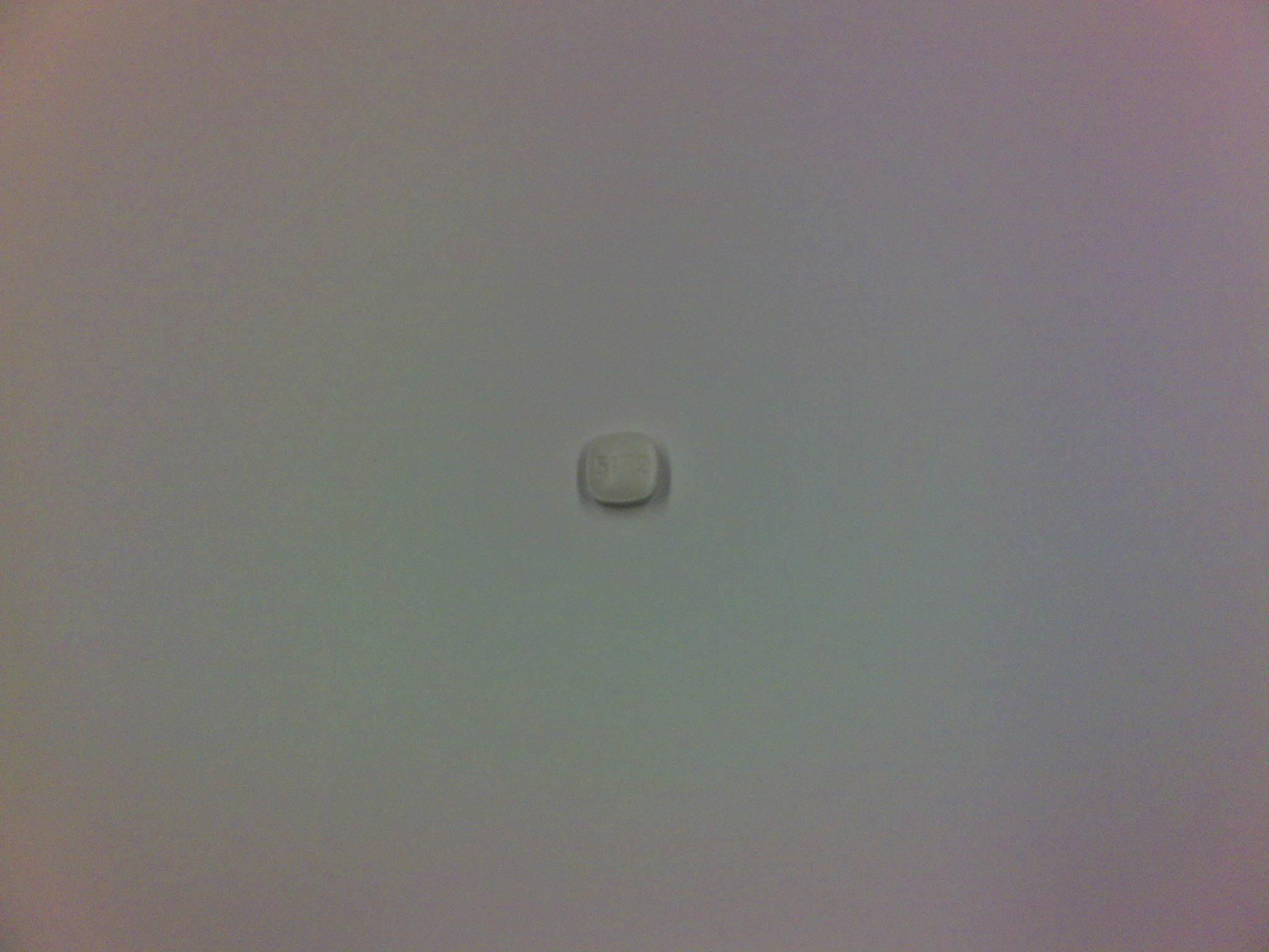Pill: (578, 426, 665, 508)
